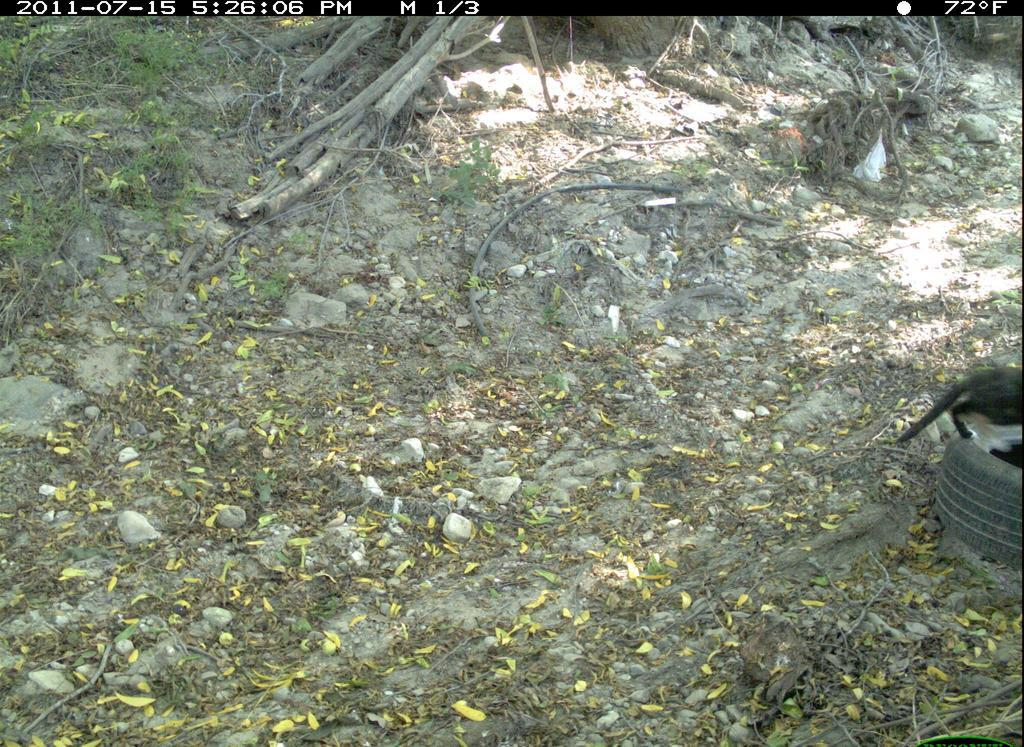cat: (893, 358, 1019, 464)
